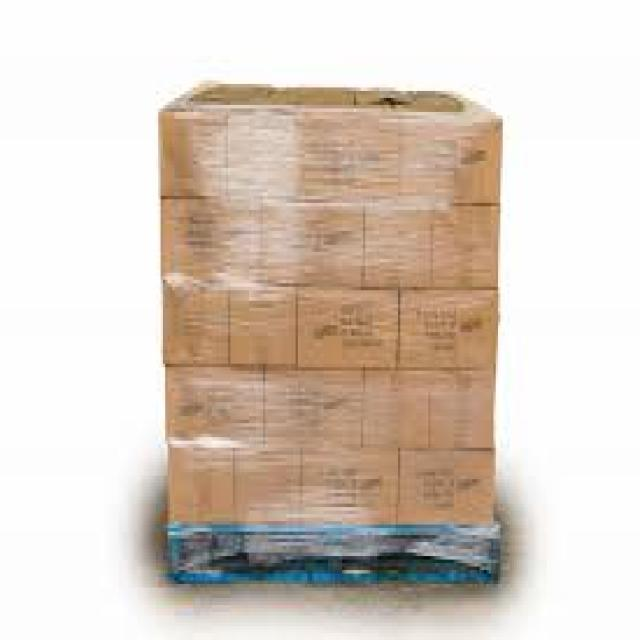cardboxes: (397, 120, 504, 204), (261, 202, 366, 286), (294, 290, 397, 371), (299, 449, 397, 533), (263, 367, 362, 449), (398, 291, 499, 367), (165, 368, 262, 447), (161, 201, 260, 277), (298, 119, 390, 200), (397, 451, 492, 527), (226, 110, 299, 202), (431, 205, 501, 290), (160, 109, 226, 198), (364, 204, 433, 289), (162, 282, 228, 364), (429, 369, 495, 448), (167, 449, 234, 526), (228, 286, 294, 364), (361, 370, 428, 445), (234, 450, 299, 521)
